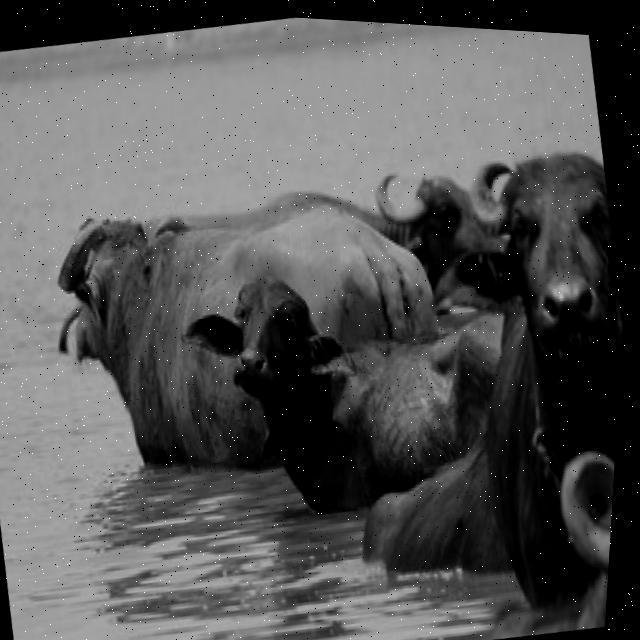Buffalo: (296, 128, 634, 630), (178, 232, 537, 545), (474, 142, 633, 391), (168, 258, 357, 415), (358, 152, 525, 307), (33, 204, 169, 376), (149, 167, 386, 259)
